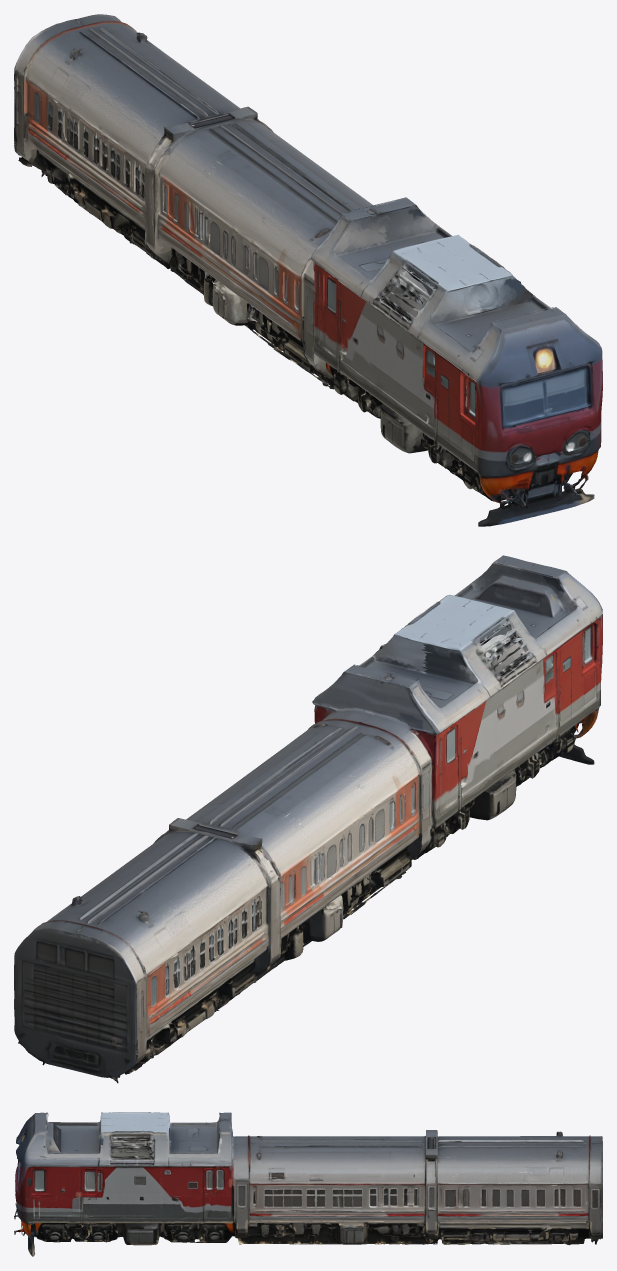
File: transport-04.glb
The picture shows the model from 3 angles, top to bottom: view 1: azimuth 30°, elevation 25°; view 2: azimuth 150°, elevation 25°; view 3: azimuth 270°, elevation 25°; orthographic projection. The views are drawn at different scales.
Bounding box in the file's own units: 0.3082 × 0.4054 × 1.82.
Materials: 1 (1 with a texture image).
